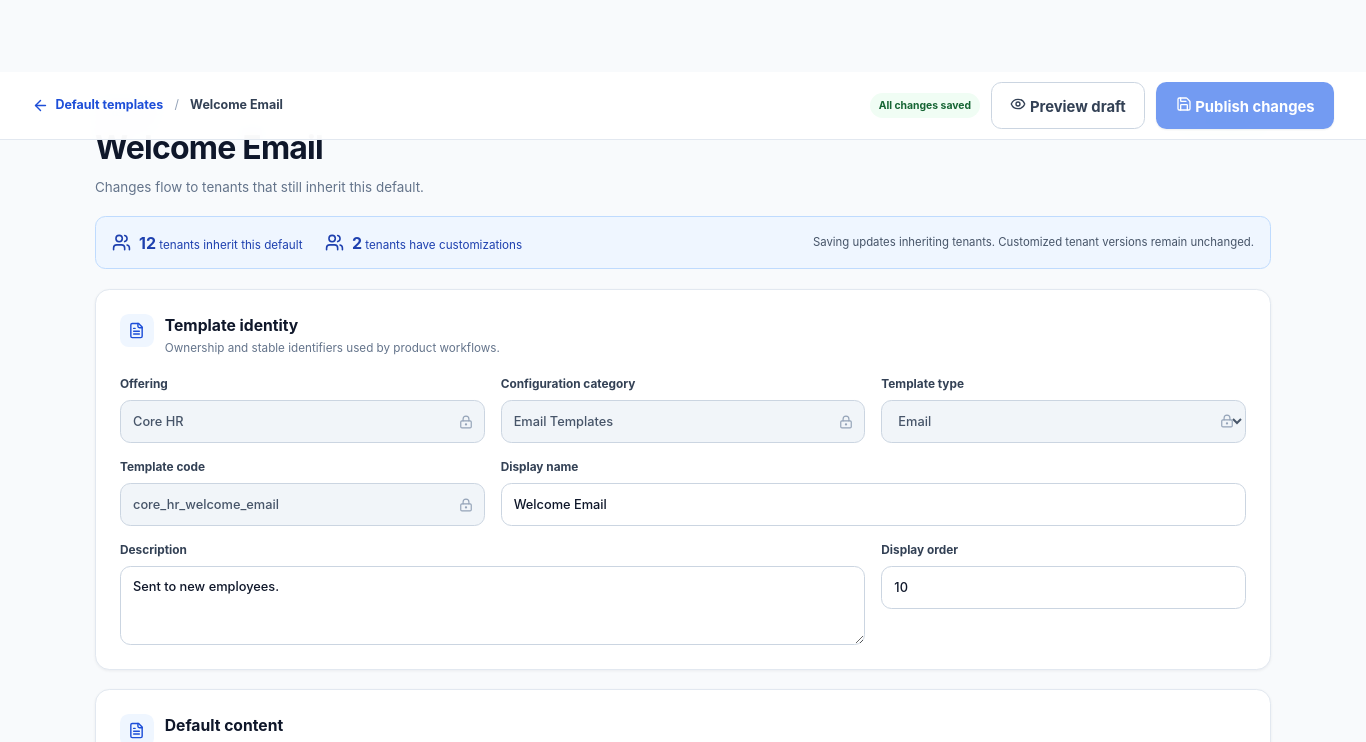
DefaultTemplateEditorPage › sends Ctrl+S through the versioned publish operation
Clear the field labelled "Display name" at (873, 504), box [501,483,1246,526]
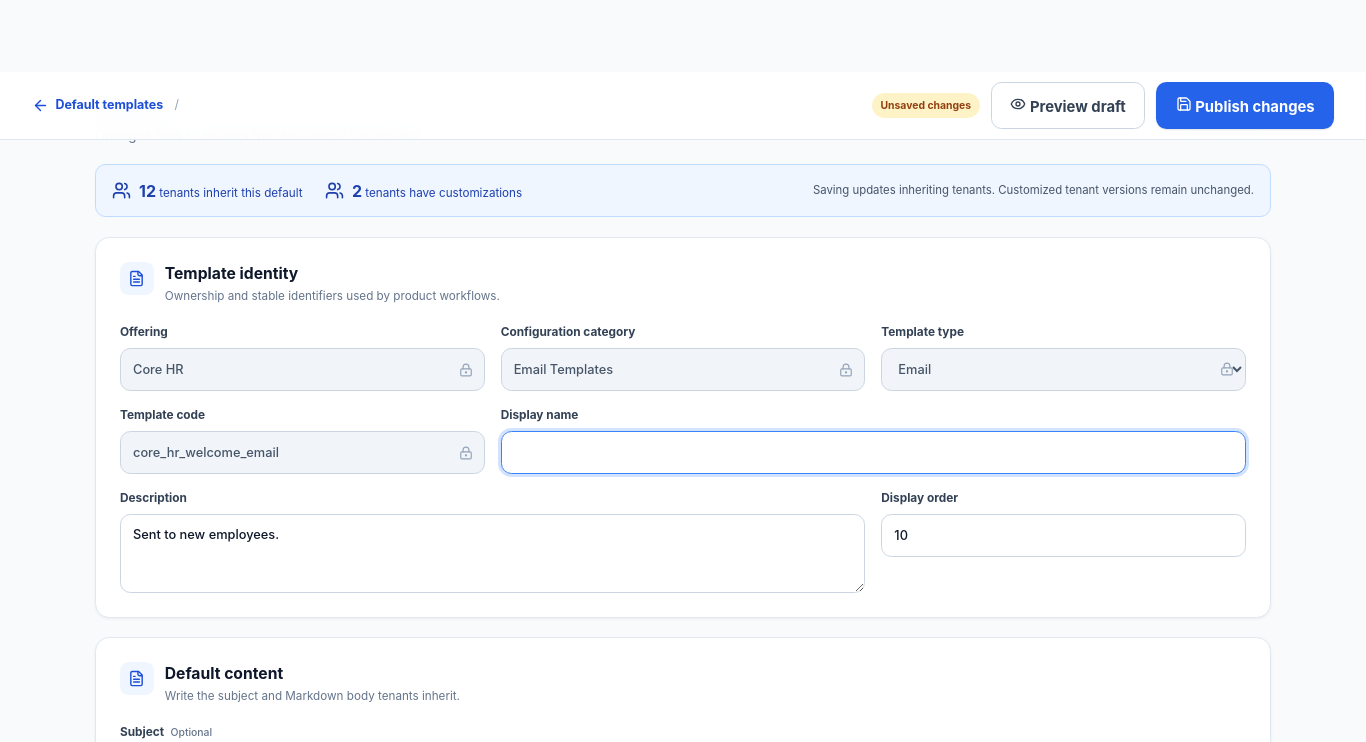
Type "Updated Welcome" into the field labelled "Display name" at (873, 452), box [501,431,1246,474]
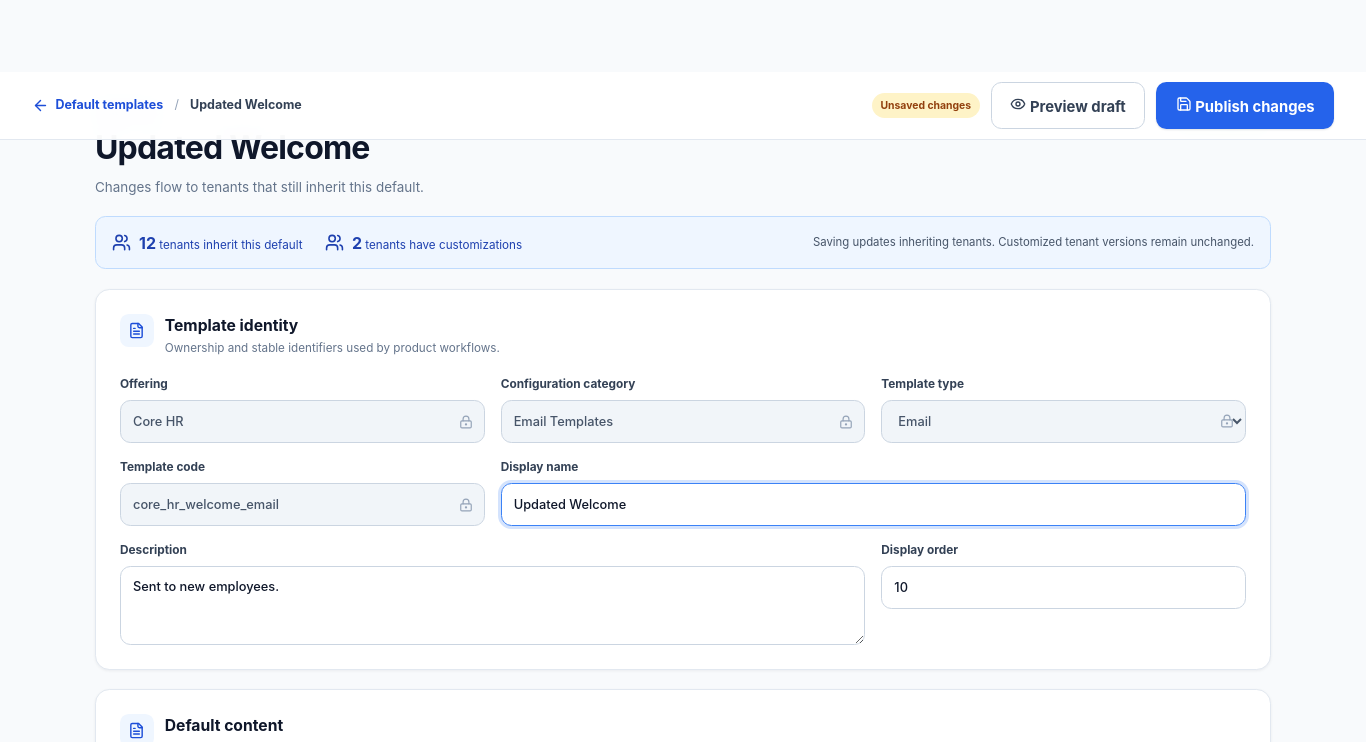
Type keys "{Control>}s{/Control}"
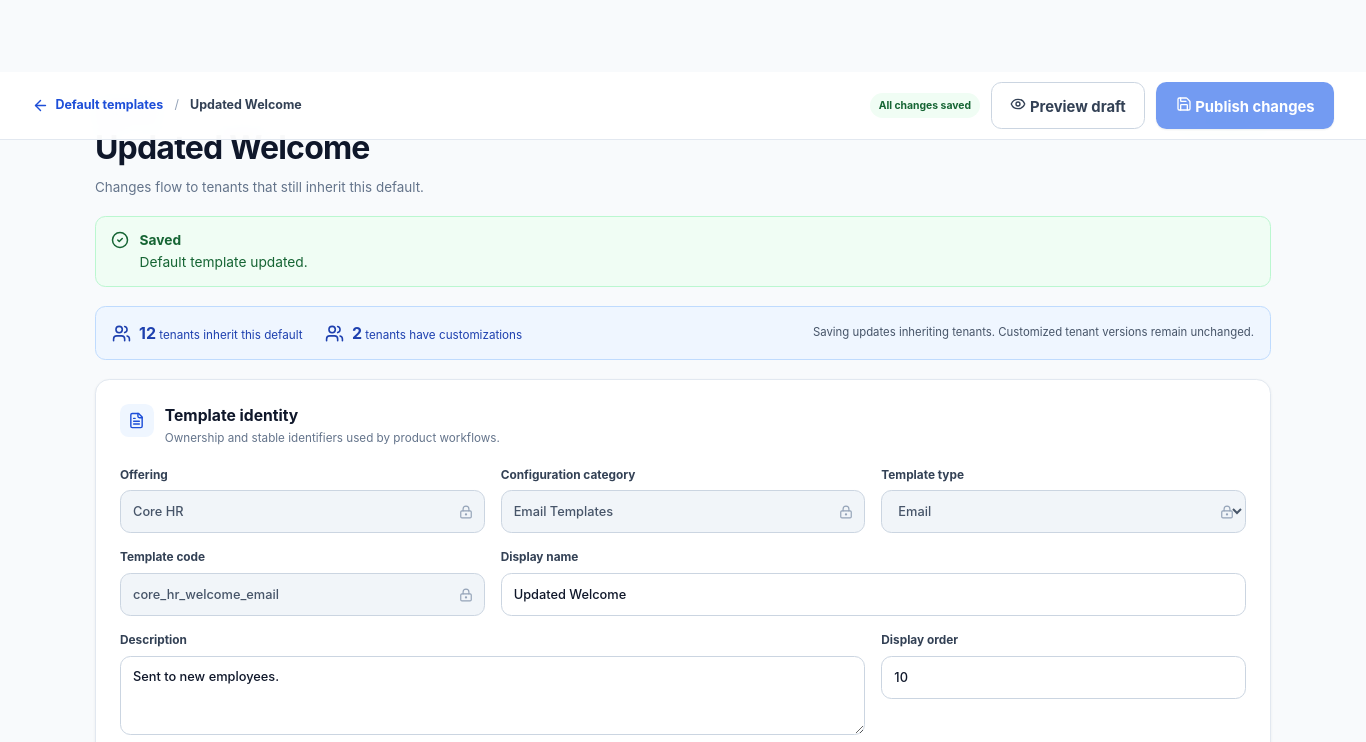
Now the text "Default template updated." is shown, box [140,254,308,270]
